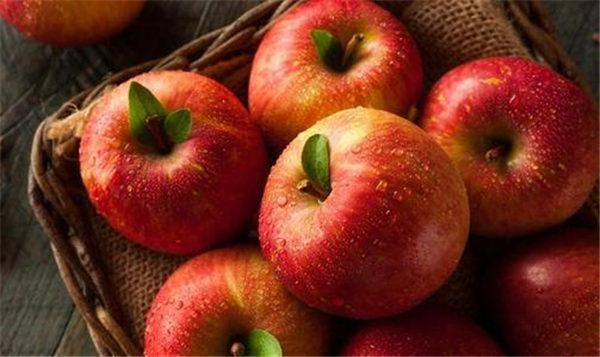apple: (257, 107, 469, 324), (80, 73, 270, 258), (417, 57, 596, 244), (246, 1, 425, 147), (139, 247, 341, 356), (482, 230, 600, 357)
